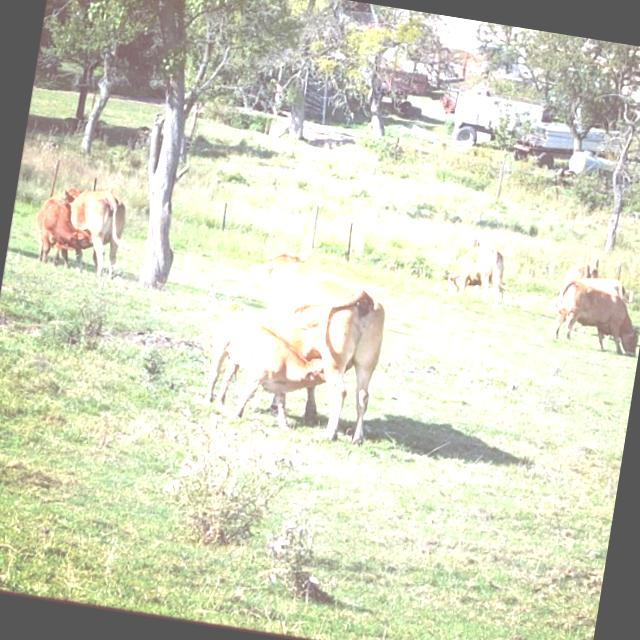Vehicle: (450, 92, 559, 160)
